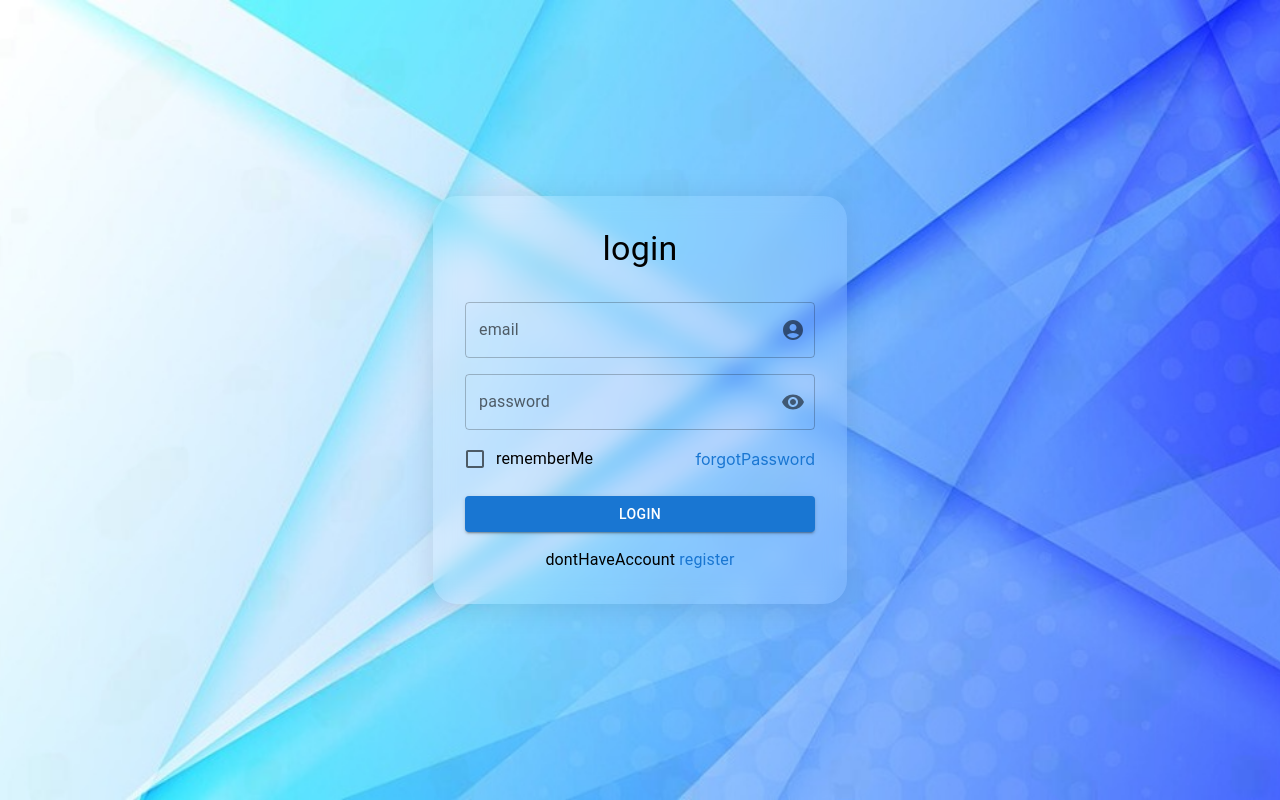
Test: LoginScreen Component › displays server error when login fails
Type "test@freshcell.de" into the field labelled "email". click: (615,330)
box: [465,302,765,358]
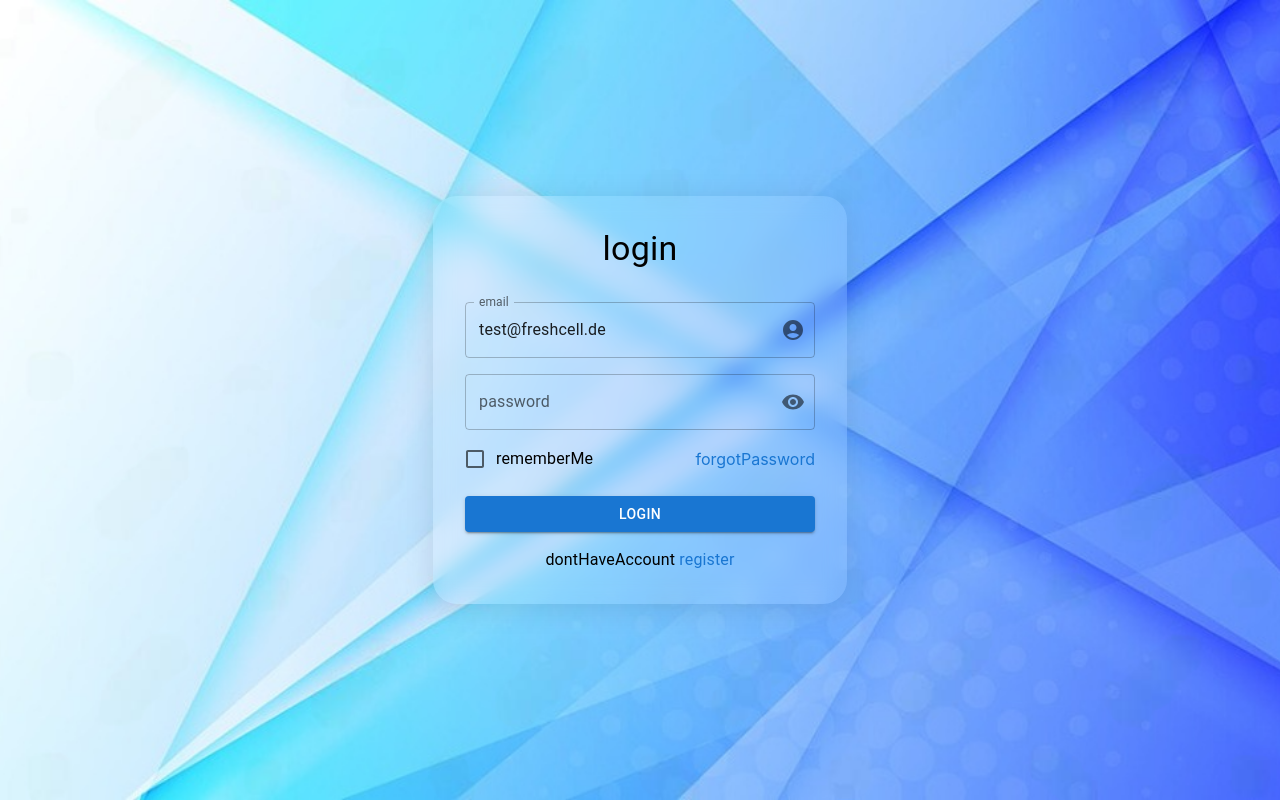
Type "KTKwXm2grV4wHW" into the password field labelled "password". click: (615,402)
box: [465,374,765,430]
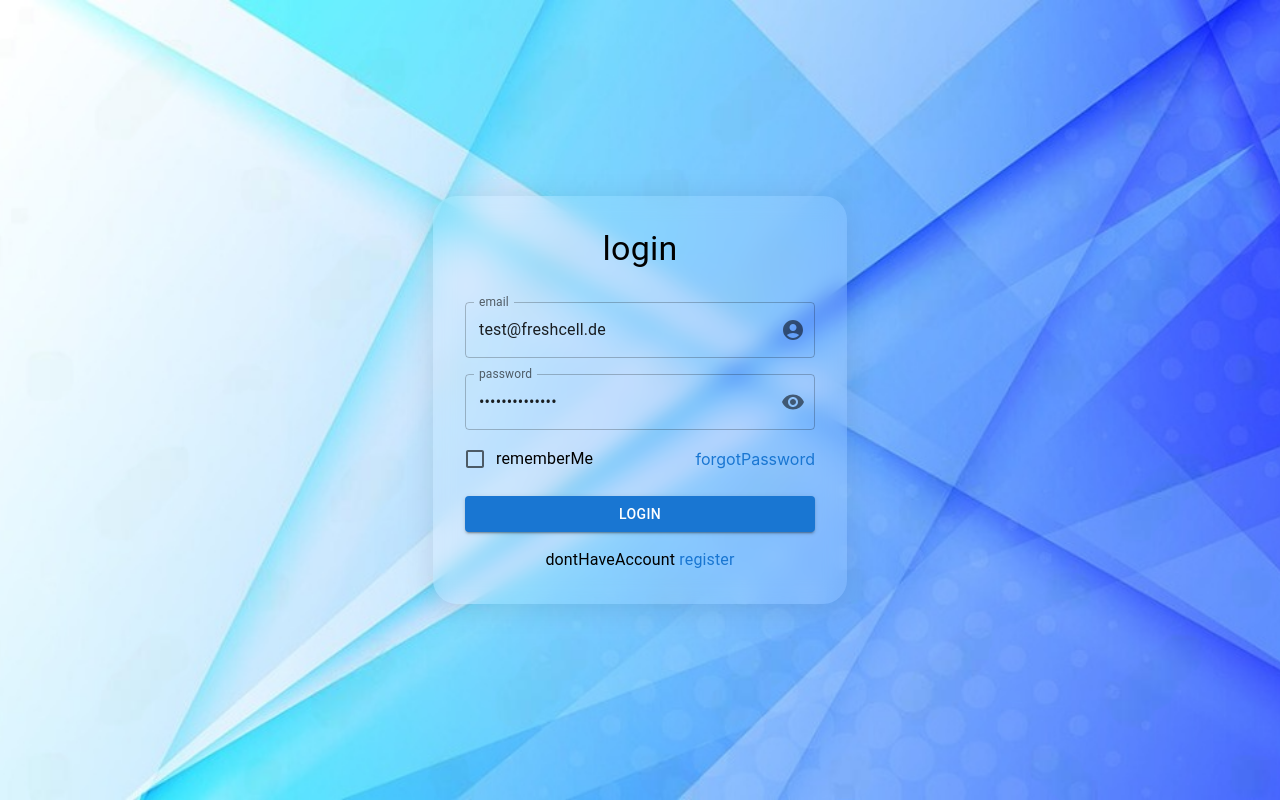
Click the button "login". click: (640,514)
box: [465,496,815,532]
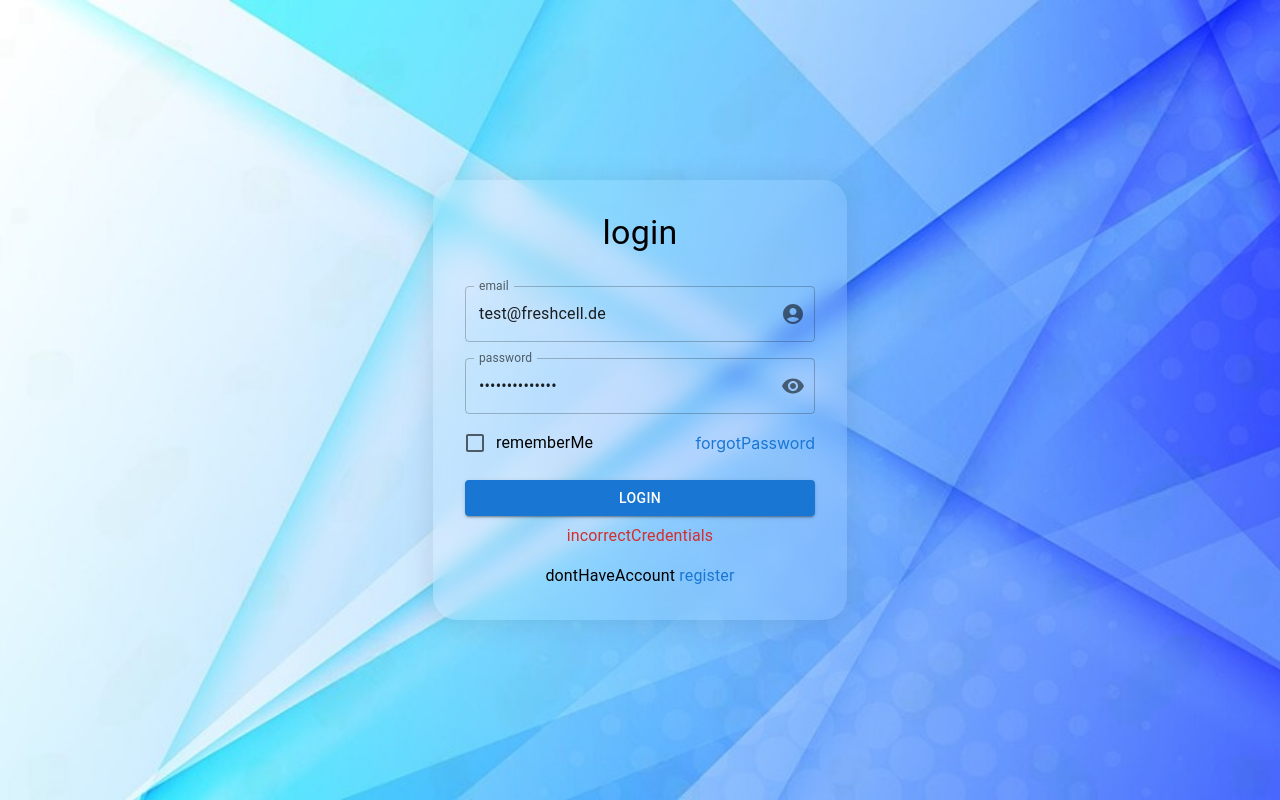
Expected: the text "incorrectCredentials" is shown, [567,526,713,545]
